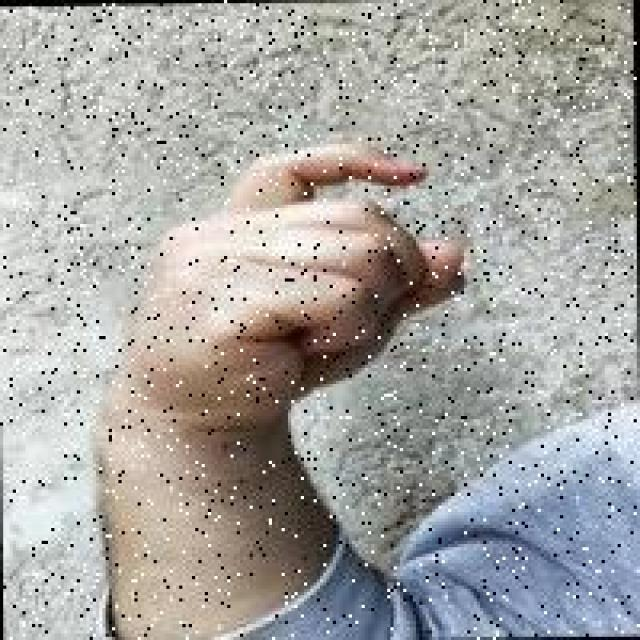X: (104, 134, 482, 416)
